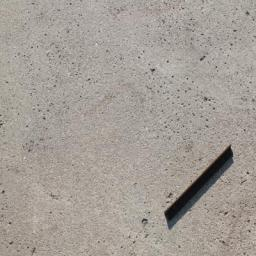FOD: (159, 145, 241, 222)
